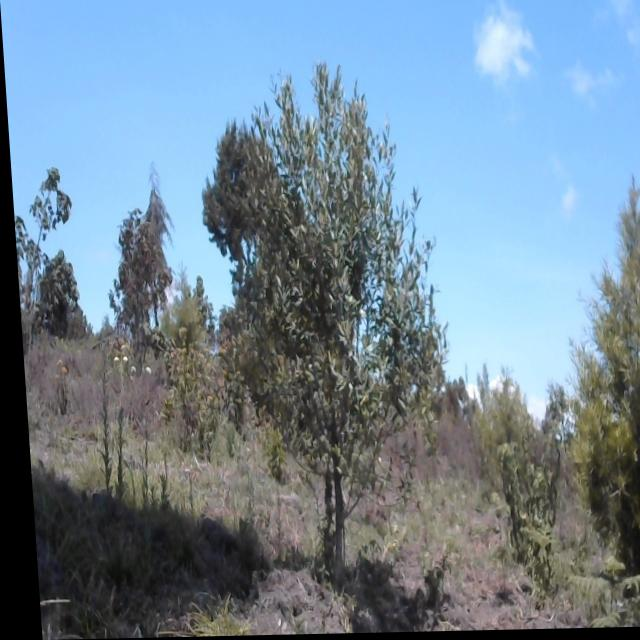Podocarpus falcatus: (155, 264, 203, 369)
Salix alba: (242, 84, 444, 591)
cedrus: (557, 167, 640, 630), (194, 109, 274, 289), (134, 161, 177, 323)
other: (9, 162, 78, 344), (105, 200, 169, 354)
